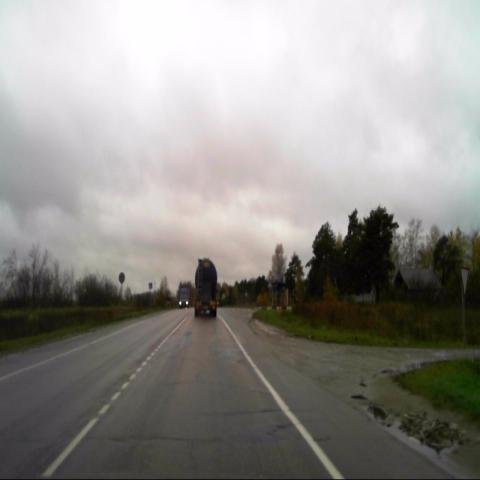2_4: (461, 266, 471, 296)
